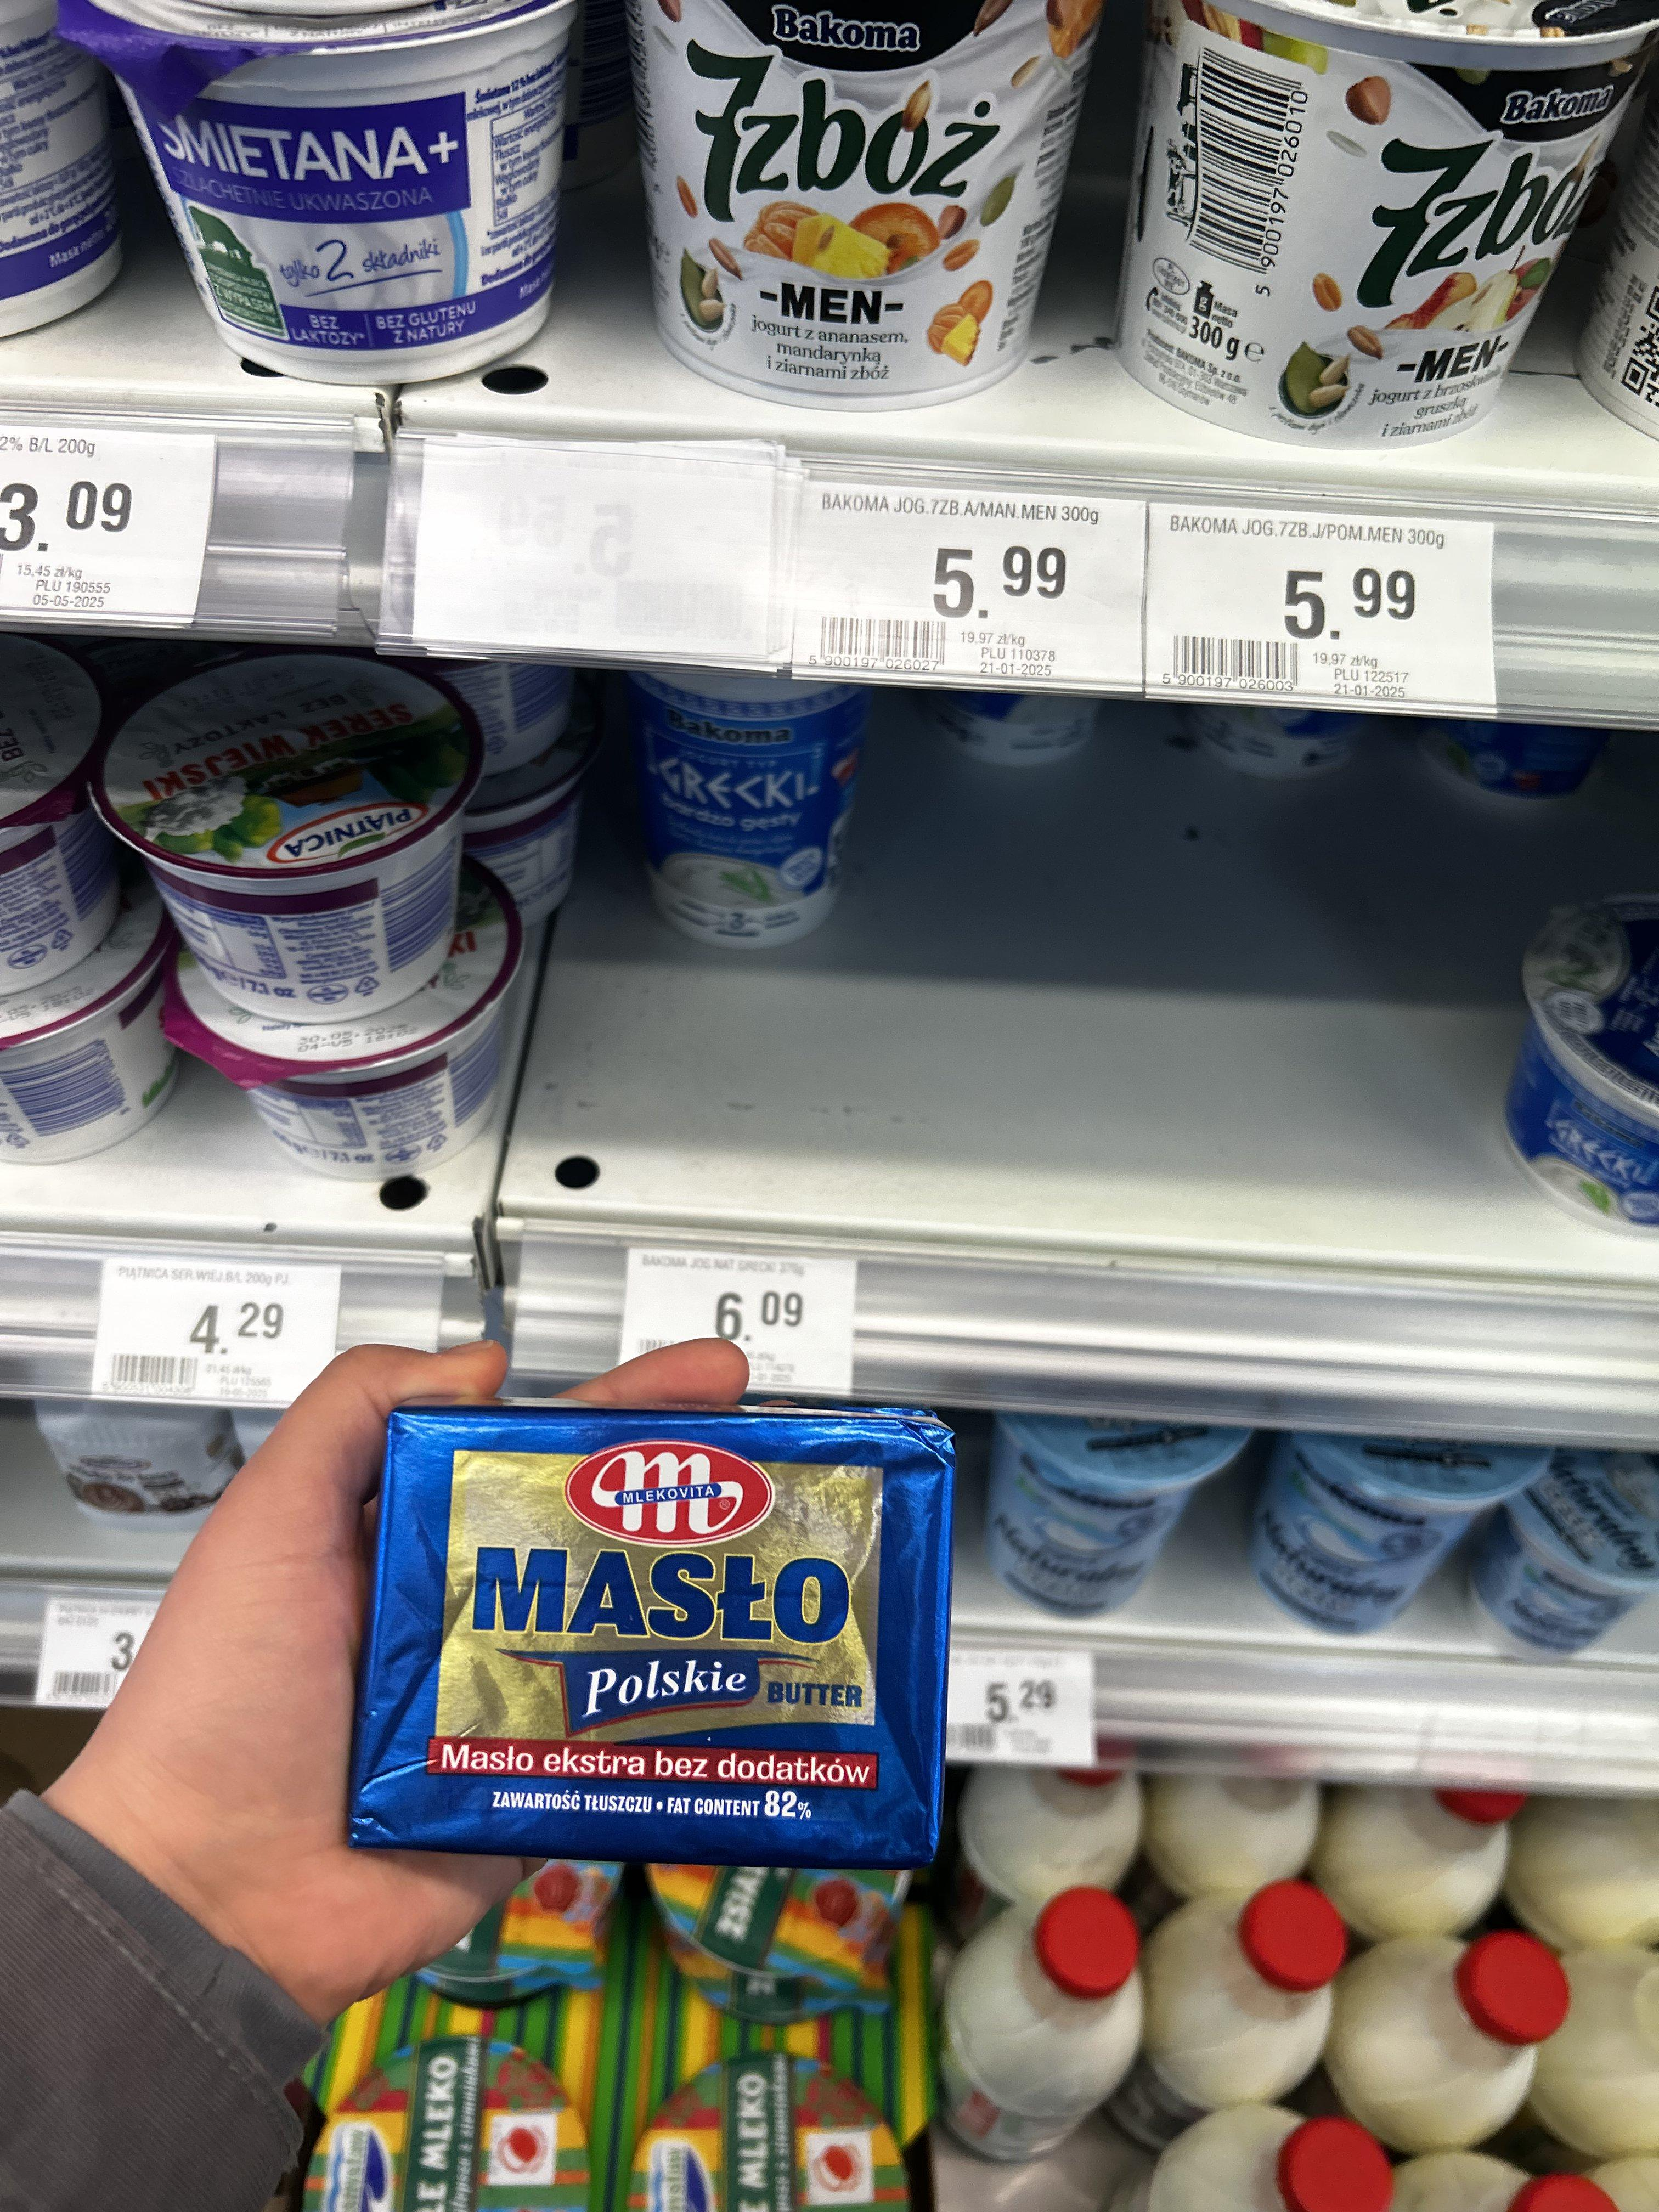Butter: (352, 1390, 939, 1879)
